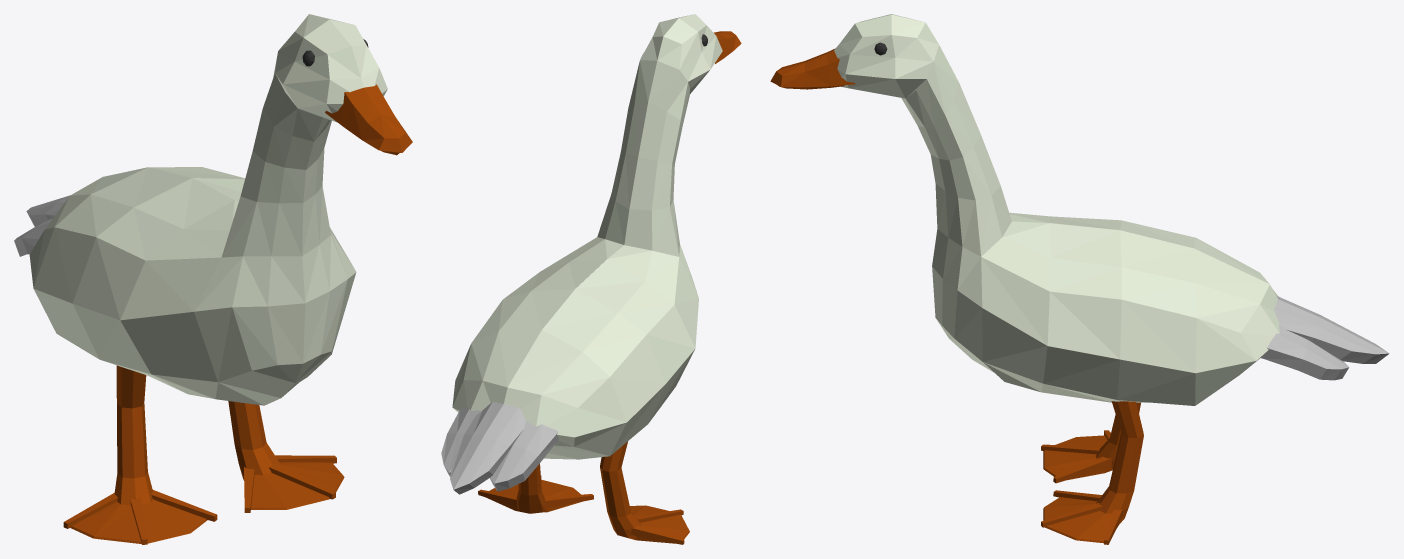
The model's file is goose.glb.
3 views of the same model, side by side, from view 1: azimuth 30°, elevation 25°; view 2: azimuth 150°, elevation 25°; view 3: azimuth 270°, elevation 25° (orthographic). The views are drawn at different scales.
Parts seen in each view (by area): view 1: geometry_3, geometry_2, geometry_0; view 2: geometry_3, geometry_0, geometry_2; view 3: geometry_3, geometry_2, geometry_0.
Part boxes in pixels (bbox=[...]): geometry_3: bbox=[29, 14, 387, 405]; geometry_2: bbox=[63, 84, 412, 544]; geometry_0: bbox=[14, 195, 69, 256]; geometry_3: bbox=[452, 14, 722, 459]; geometry_0: bbox=[441, 402, 558, 494]; geometry_2: bbox=[478, 31, 741, 544]; geometry_3: bbox=[834, 14, 1279, 405]; geometry_2: bbox=[770, 48, 1143, 544]; geometry_0: bbox=[1260, 296, 1389, 380].
Bounding box in the file's own units: 0.4963 × 1 × 1.18.
